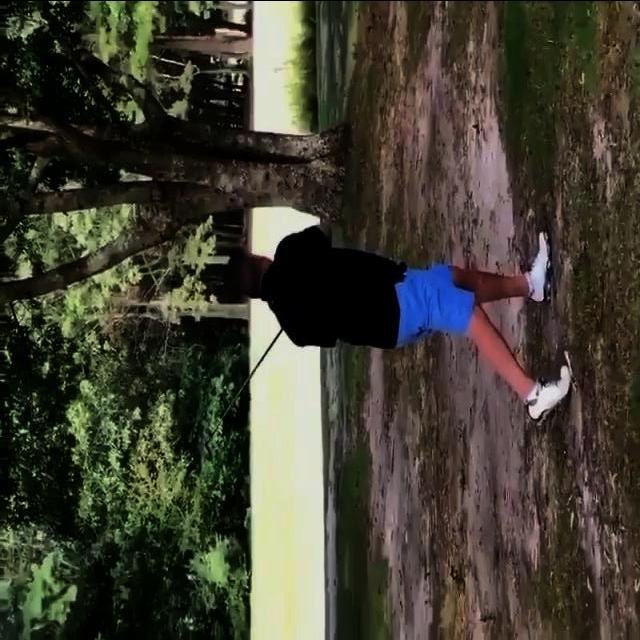golf club-handle: (200, 323, 283, 460)
golf club-head: (199, 437, 214, 456)
